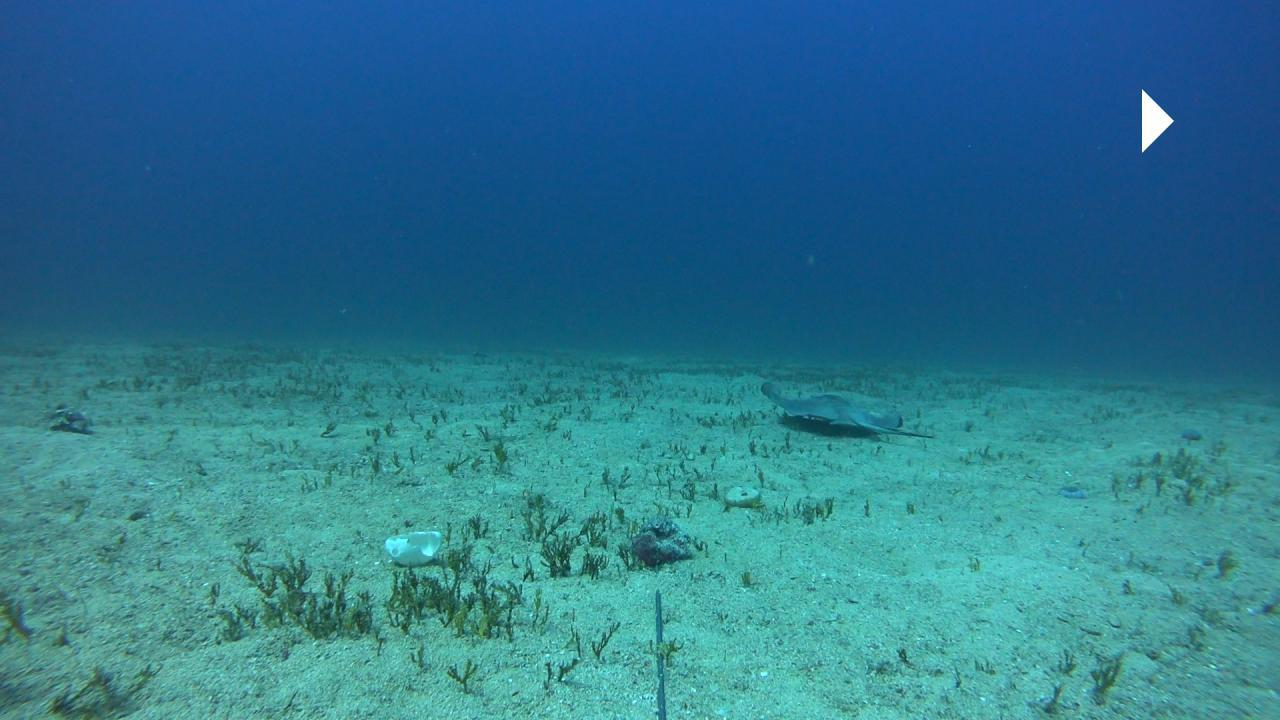dasyatis: (758, 378, 936, 438)
